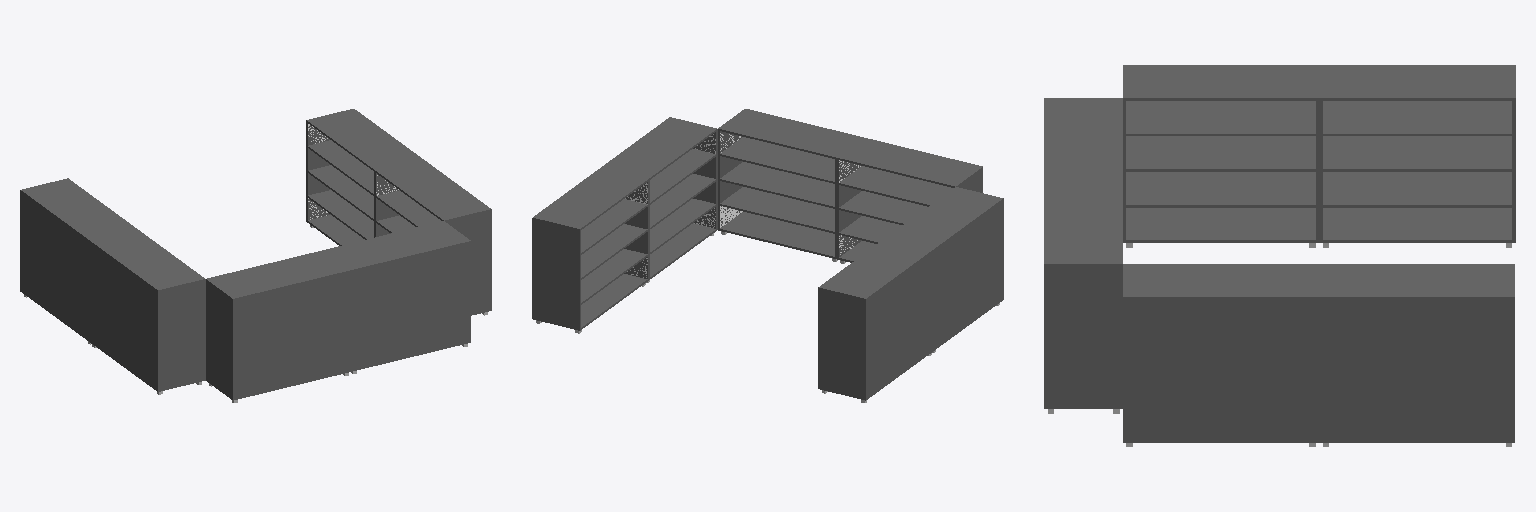
The robot description file, URDF, robot "shelf_model":
<robot name="shelf_model">
  <link name="shelf">
    <inertial>
      <origin xyz="0 0 0" /> 
      <mass value="100.0" />
      <inertia  ixx="10.0" ixy="0.0"  ixz="0.0"  iyy="10.0"  iyz="0.0"  izz="10.0" />
    </inertial>
    <visual>
      <origin xyz="0 0 0" /> 
      <geometry>
        <mesh filename="package://models_pkg/models/shelf/shelf.dae" scale="0.8 0.8 0.8"/>
      </geometry>	
    </visual>
    <collision>
      <origin xyz="0 0 0" /> 
      <geometry>
        <mesh filename="package://models_pkg/models/shelf/shelf.dae" scale="0.8 0.8 0.8"/>
      </geometry>
    </collision>
  </link>
  
</robot>

--- Render facts (derived) ---
3 views of the same robot in one strip: view 1: azimuth 30°, elevation 25°; view 2: azimuth 150°, elevation 25°; view 3: azimuth 270°, elevation 25° (orthographic).
Robot: shelf_model — 1 links, 0 joints (none); root link shelf; default pose: every joint at zero.
Links seen in each view (by area): view 1: shelf; view 2: shelf; view 3: shelf.
Link boxes in pixels (x1,y1,x2,y2): shelf: (20,109,491,402); shelf: (532,109,1003,402); shelf: (1044,65,1515,446).
Bounding box of the posed robot: 3.42 × 2.93 × 1.04 m (x, y, z).
Meshes: 1 distinct files referenced, 1 mesh visuals loaded (1 Collada DAE).